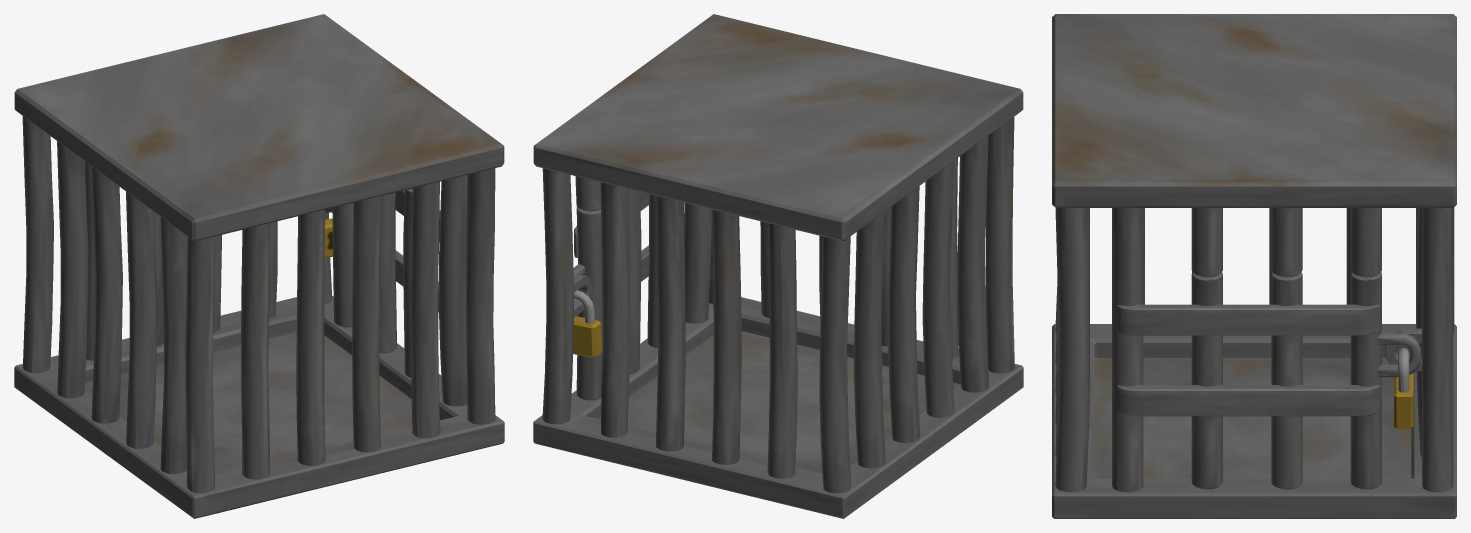
The model's file is small_cage.fbx.
3 renders of one model, left to right at view 1: azimuth 30°, elevation 25°; view 2: azimuth 150°, elevation 25°; view 3: azimuth 270°, elevation 25°, orthographic. The views are drawn at different scales.
Visible parts, largest first — view 1: small cage; view 2: small cage; view 3: small cage.
Boxes of the visible parts, x1,y1,x2,y2 form: small cage: [14, 14, 504, 518]; small cage: [533, 14, 1023, 518]; small cage: [1052, 14, 1456, 518].
Bounding box in the file's own units: 2513 × 2305 × 2513.
Materials: 1 (1 with a texture image).
